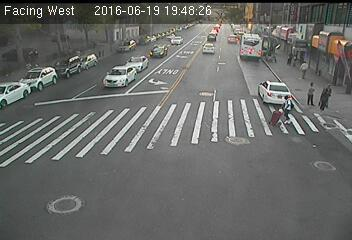neg: (211, 74, 229, 98), (125, 65, 138, 82), (203, 43, 213, 56), (28, 97, 38, 110), (47, 48, 56, 61), (39, 73, 48, 85), (72, 100, 80, 110), (247, 46, 255, 56), (152, 32, 158, 40), (142, 102, 148, 110), (83, 32, 88, 39)
pos: (275, 94, 299, 125), (300, 78, 321, 106), (317, 83, 338, 110), (297, 58, 311, 76), (284, 50, 295, 65), (290, 53, 300, 66)
